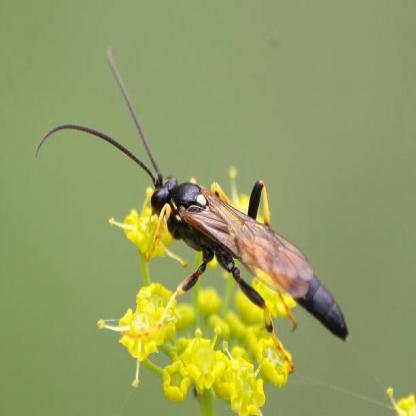sawfly: (34, 48, 355, 366)
